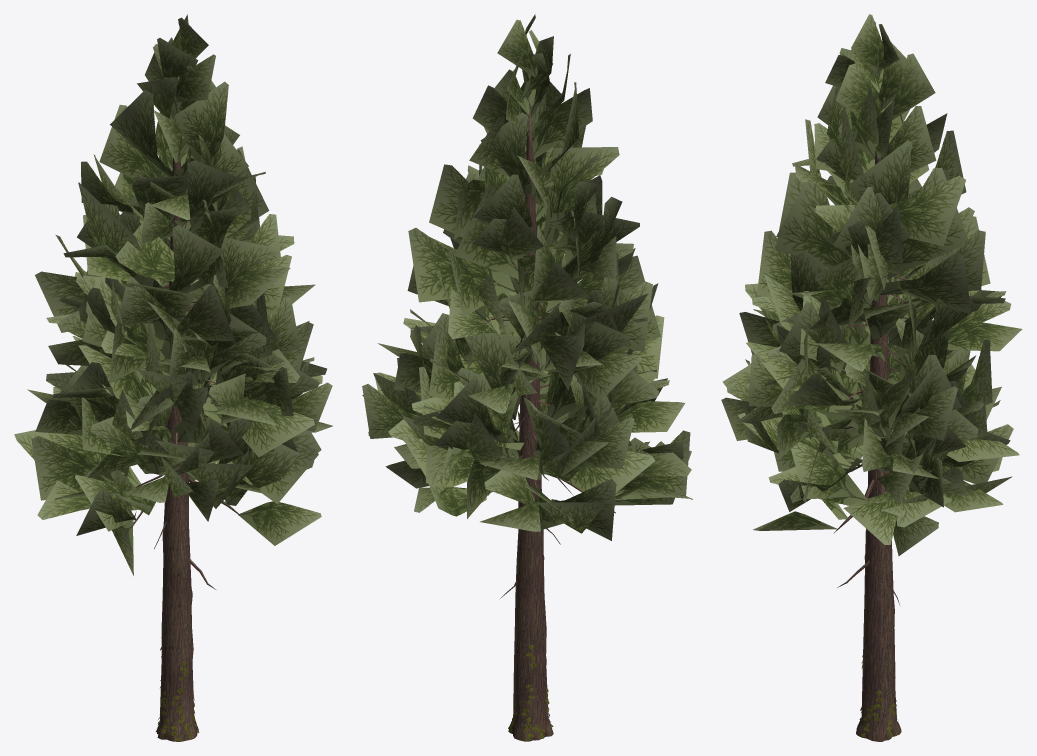
Rendered from BigTree2.fbx.
3 renders of one model, left to right at view 1: azimuth 30°, elevation 25°; view 2: azimuth 150°, elevation 25°; view 3: azimuth 270°, elevation 25°, orthographic.
Visible parts, largest first — view 1: SM_d_109_Coniferous_02a; view 2: SM_d_109_Coniferous_02a; view 3: SM_d_109_Coniferous_02a.
Part boxes in pixels (x1,y1,x2,y2): SM_d_109_Coniferous_02a: [14, 14, 332, 741]; SM_d_109_Coniferous_02a: [362, 14, 692, 741]; SM_d_109_Coniferous_02a: [721, 14, 1022, 741].
Bounding box in the file's own units: 1270 × 2798 × 1065.
